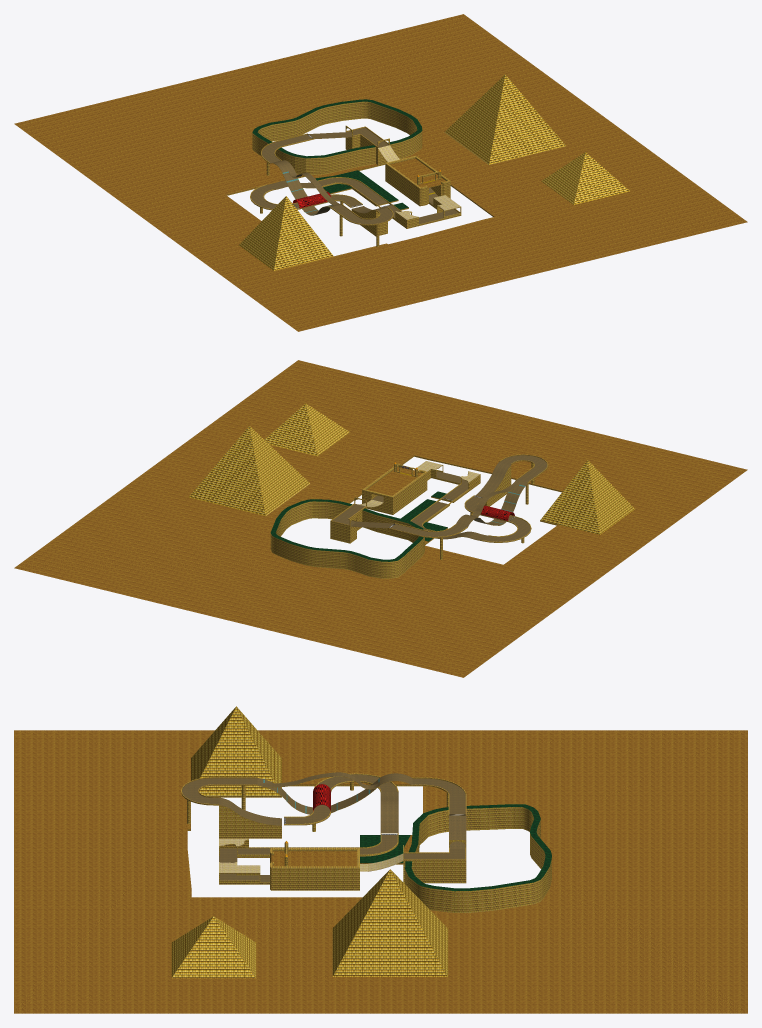
The picture shows the model from 3 angles, top to bottom: view 1: azimuth 30°, elevation 25°; view 2: azimuth 150°, elevation 25°; view 3: azimuth 270°, elevation 25°; orthographic projection. The views are drawn at different scales.
Parts seen in each view (by area): view 1: Sphynx_Road_Main-sand, Sphynx_Road_Main-pyramid, Sphynx_Road_Main-mur1, Sphynx_Road_Main-road1, Sphynx_Road_Main-grass, Sphynx_Road_Main-woodroad; view 2: Sphynx_Road_Main-sand, Sphynx_Road_Main-pyramid, Sphynx_Road_Main-mur1, Sphynx_Road_Main-road1, Sphynx_Road_Main-grass; view 3: Sphynx_Road_Main-sand, Sphynx_Road_Main-pyramid, Sphynx_Road_Main-mur1, Sphynx_Road_Main-road1, Sphynx_Road_Main-grass, Sphynx_Road_Main-woodroad.
Boxes of the visible parts, left/top/right/bottom form: Sphynx_Road_Main-sand: left=14, top=14, right=747, bottom=331; Sphynx_Road_Main-pyramid: left=239, top=74, right=629, bottom=270; Sphynx_Road_Main-mur1: left=226, top=101, right=494, bottom=246; Sphynx_Road_Main-road1: left=250, top=127, right=458, bottom=224; Sphynx_Road_Main-grass: left=252, top=99, right=422, bottom=209; Sphynx_Road_Main-woodroad: left=378, top=145, right=460, bottom=219; Sphynx_Road_Main-sand: left=14, top=360, right=747, bottom=677; Sphynx_Road_Main-pyramid: left=189, top=403, right=634, bottom=534; Sphynx_Road_Main-mur1: left=270, top=454, right=562, bottom=578; Sphynx_Road_Main-road1: left=332, top=455, right=547, bottom=541; Sphynx_Road_Main-grass: left=270, top=491, right=447, bottom=561; Sphynx_Road_Main-sand: left=14, top=730, right=747, bottom=1013; Sphynx_Road_Main-pyramid: left=171, top=706, right=447, bottom=978; Sphynx_Road_Main-mur1: left=181, top=773, right=551, bottom=912; Sphynx_Road_Main-road1: left=182, top=772, right=466, bottom=882; Sphynx_Road_Main-grass: left=360, top=804, right=551, bottom=891; Sphynx_Road_Main-woodroad: left=219, top=838, right=403, bottom=872.
Bounding box in the file's own units: 119321 × 16734 × 130624.
Materials: 14 (14 with a texture image).
